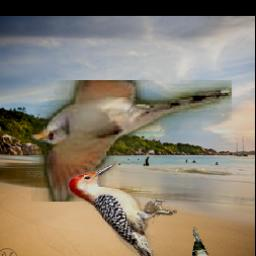Cuckoo: (31, 81, 232, 203), (189, 227, 208, 256)
Woodpecker: (66, 162, 176, 256)
